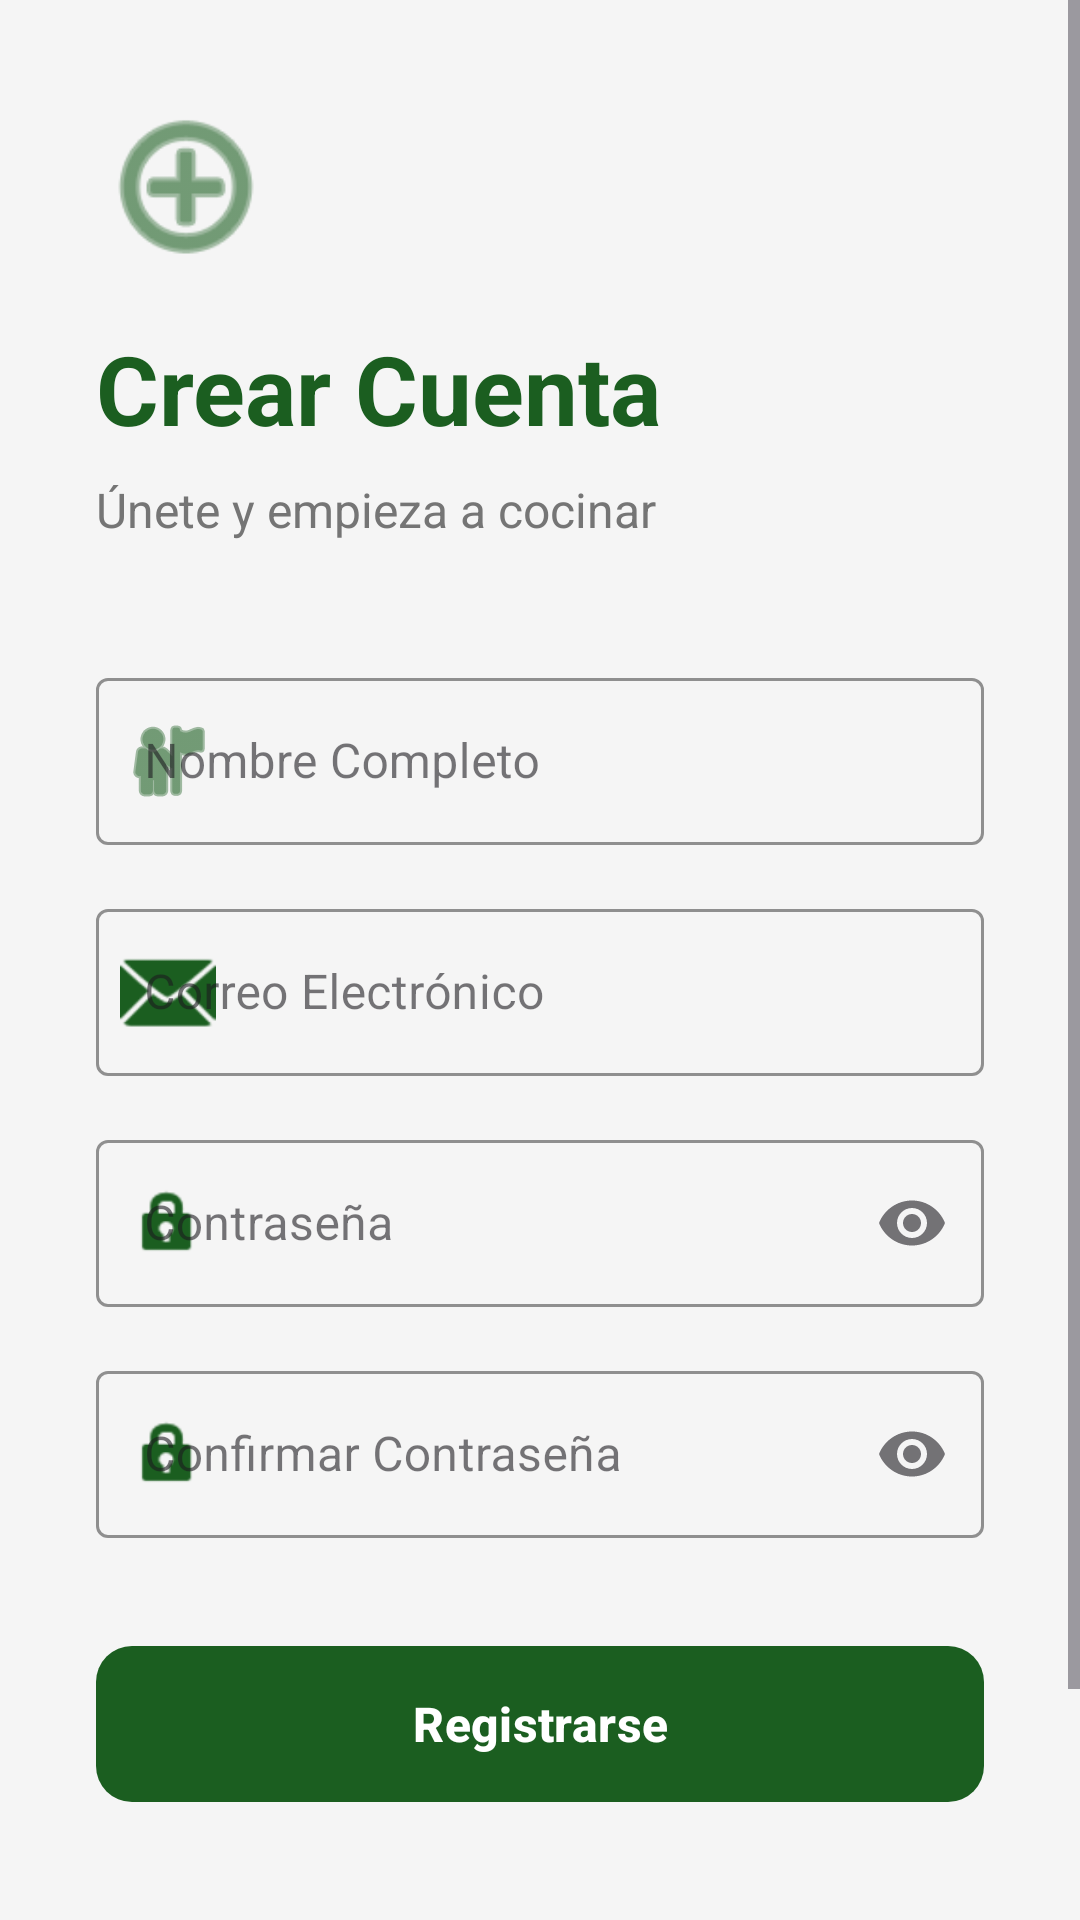

Point at icon controls on the screen. Image size 1080*1920, points as point (x, y).
add: point (186, 187)
